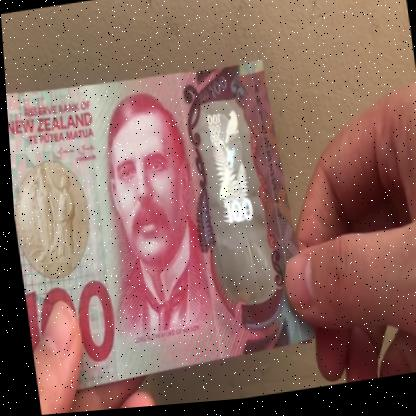100F: (200, 107, 264, 297)
